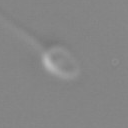normal: (1, 1, 47, 52)
